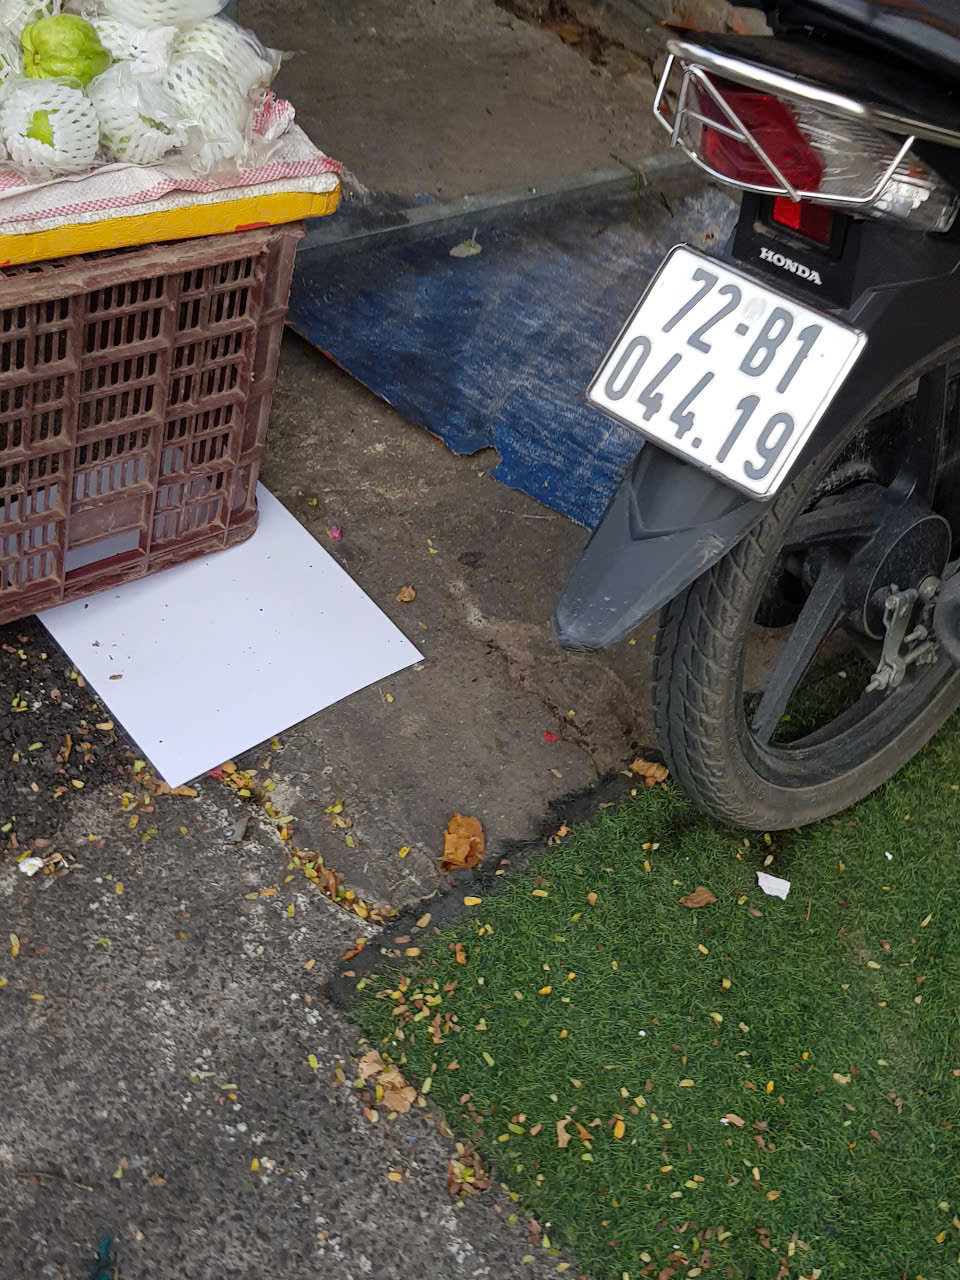bien_so: (584, 248, 863, 495)
